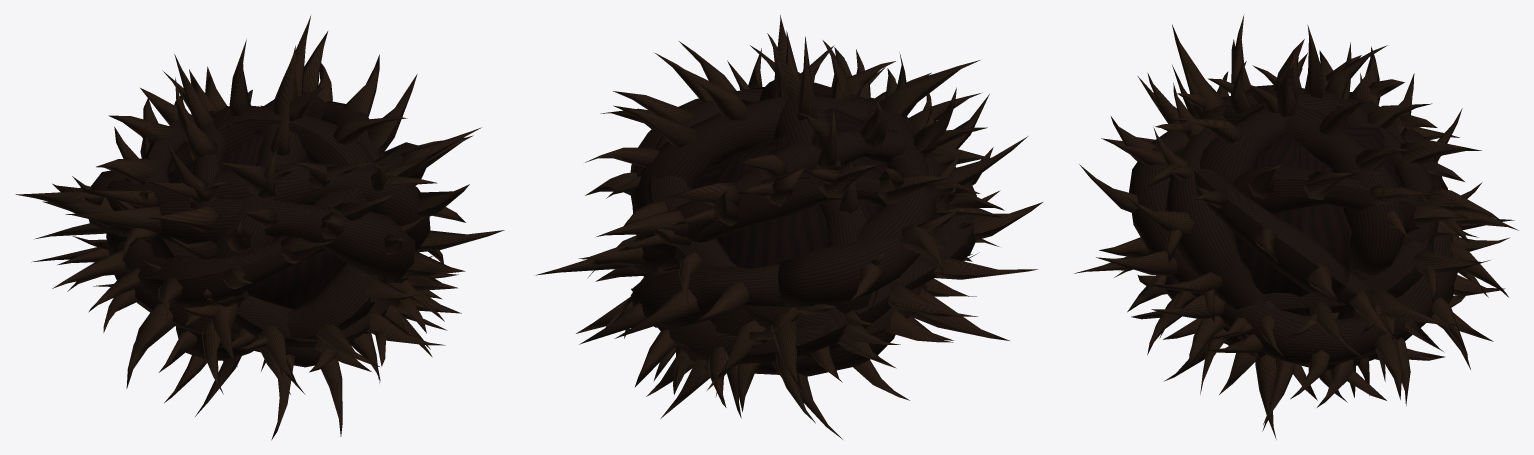
File: Thorn_A_BriarHeart_Detail1.fbx
The picture shows the model from 3 angles, left to right: view 1: azimuth 30°, elevation 25°; view 2: azimuth 150°, elevation 25°; view 3: azimuth 270°, elevation 25°; orthographic projection. The views are drawn at different scales.
Parts seen in each view (by area): view 1: ThornSurface; view 2: ThornSurface; view 3: ThornSurface.
Boxes of the visible parts, <box> form: ThornSurface: <box>15,16,504,440</box>; ThornSurface: <box>534,15,1042,439</box>; ThornSurface: <box>1074,14,1518,439</box>.
Size of the model in its own units: 282 by 248 by 272.
